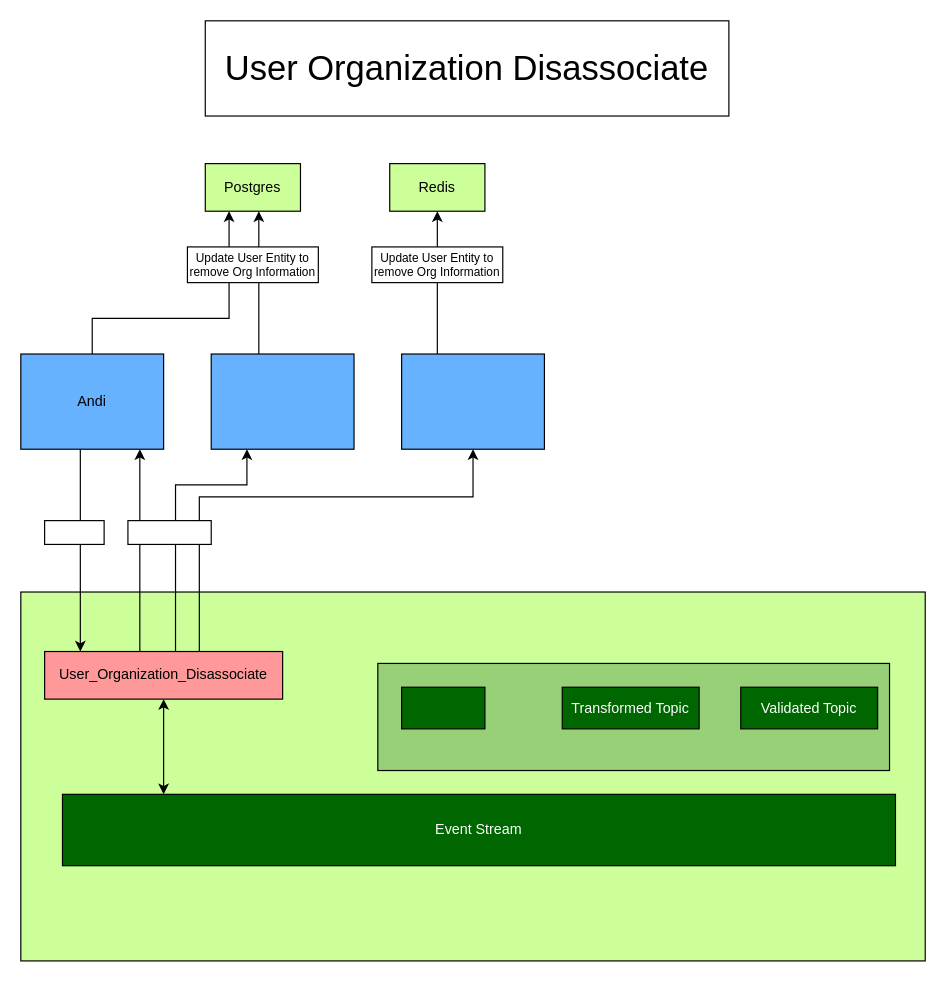
Image size: 946x982. Some labels were removed from this diagram. The box of each missing label's shape, as (x1, y1, x2, y2) in pixels:
Discovery_API: (210, 353, 354, 449)
Raptor: (400, 353, 544, 449)
Raw Topic: (400, 686, 485, 729)
Receieve: (127, 519, 211, 544)
Send: (43, 519, 104, 544)
